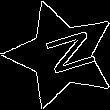N_W: (29, 28, 93, 82)
